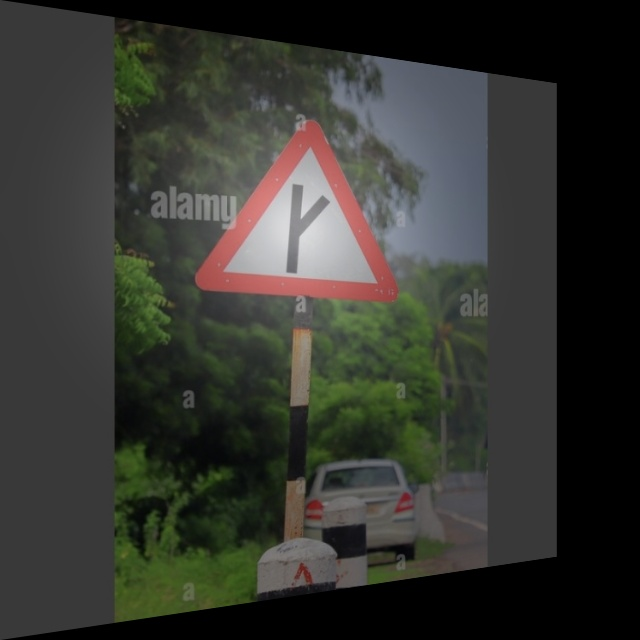Y_Intersection: (195, 104, 406, 306)
